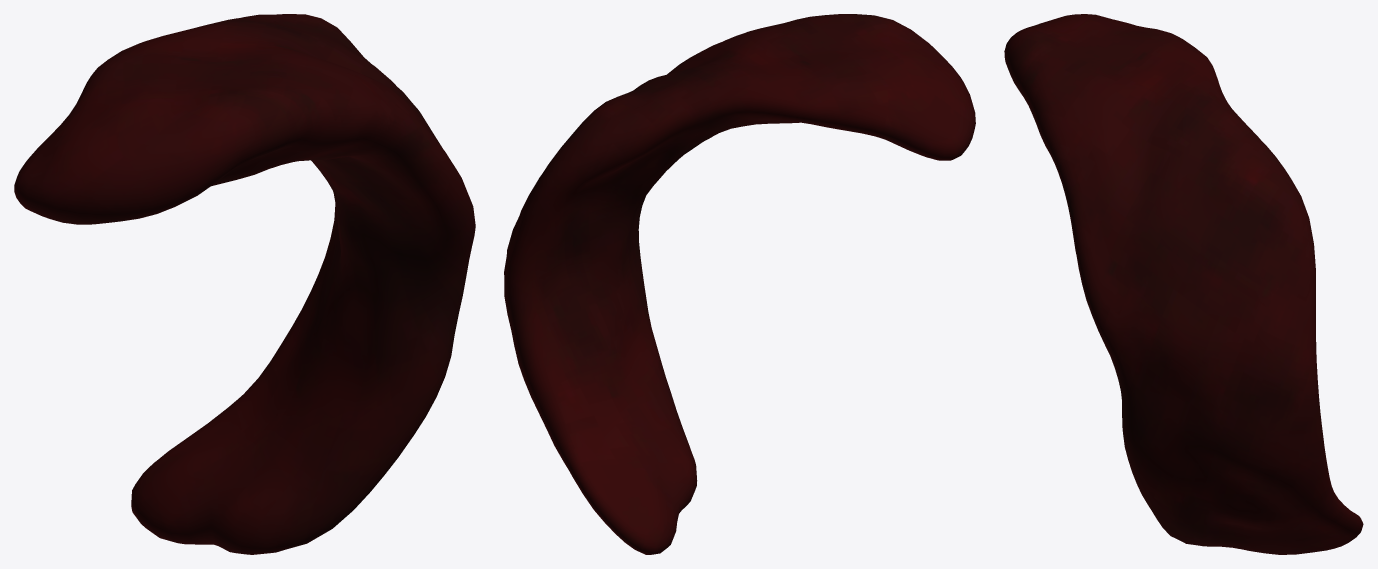
File: Spleen.glb
3 renders of one model, left to right at view 1: azimuth 30°, elevation 25°; view 2: azimuth 150°, elevation 25°; view 3: azimuth 270°, elevation 25°, orthographic. The views are drawn at different scales.
Visible parts, largest first — view 1: Spleen; view 2: Spleen; view 3: Spleen.
Part boxes in pixels (left/top/right/bottom): Spleen: left=14, top=14, right=475, bottom=554; Spleen: left=504, top=14, right=975, bottom=554; Spleen: left=1004, top=14, right=1363, bottom=554.
Size of the model in its own units: 58.79 by 67.43 by 46.38.
1 material, 1 textured.
